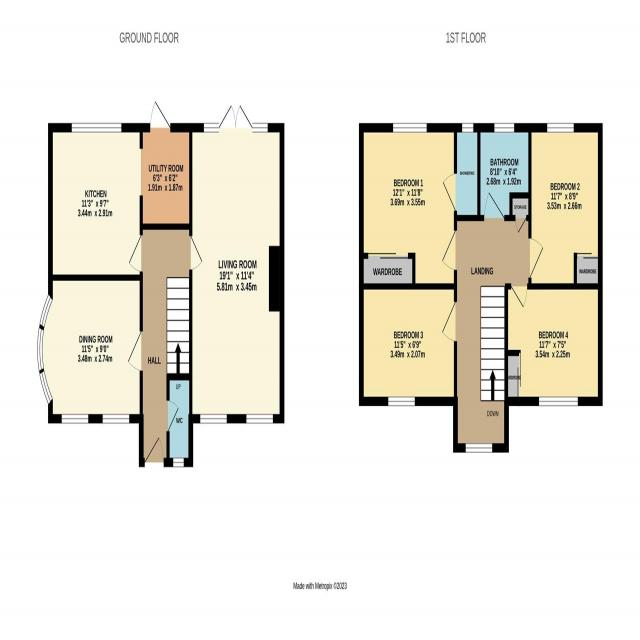DOOR: (149, 98, 171, 133), (528, 236, 545, 280), (441, 228, 457, 272), (483, 190, 505, 222), (441, 300, 457, 343), (127, 329, 143, 372), (127, 233, 143, 273), (442, 171, 457, 212), (189, 234, 204, 271), (510, 283, 528, 310), (166, 399, 179, 433)
DOUBLE DOOR: (218, 102, 254, 133), (144, 435, 165, 468)
ROOM: (188, 103, 285, 425), (359, 122, 458, 290), (37, 274, 144, 424), (48, 122, 143, 281), (528, 122, 603, 290), (359, 282, 458, 407), (504, 283, 603, 407)
WINDOW: (71, 122, 122, 134), (538, 395, 579, 408), (39, 369, 53, 406), (39, 293, 53, 329), (392, 121, 428, 133), (546, 122, 575, 134), (465, 442, 493, 454), (246, 413, 274, 425), (102, 413, 130, 425), (200, 413, 227, 425), (37, 326, 44, 372), (61, 413, 89, 424), (388, 396, 415, 407), (494, 122, 515, 134), (461, 122, 474, 134), (173, 457, 184, 468)
